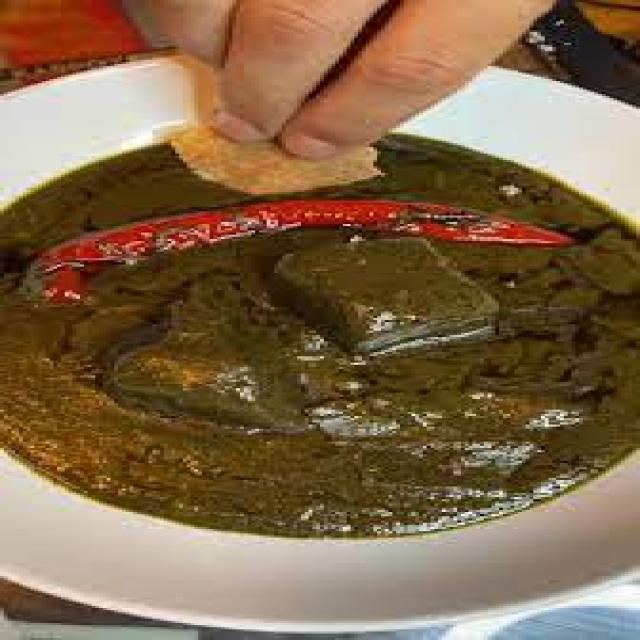Melloukhia: (0, 111, 621, 556)
